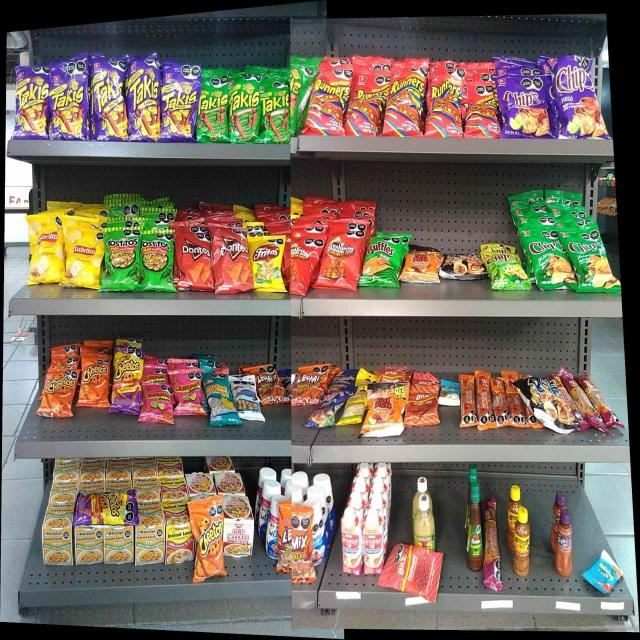bitzAlmendras: (582, 551, 622, 594), (440, 380, 460, 405)
bitzEnchilado90: (383, 551, 443, 594), (407, 386, 438, 424)
bitzEnchilado95: (492, 378, 523, 427), (478, 370, 492, 425), (462, 374, 476, 428)
bitzHabanero: (561, 381, 618, 435), (483, 497, 499, 589)
bokadosCacahuates: (310, 399, 342, 426)
botaneraChilito: (514, 506, 531, 577)
cheetosFlaminHot: (76, 490, 136, 523), (114, 346, 140, 414)
cheetosOriginal: (34, 366, 81, 416), (194, 502, 223, 574), (81, 351, 111, 406)
chipsFuego: (550, 60, 610, 139), (494, 76, 550, 138)
chipsJalapeno: (568, 224, 621, 293), (526, 227, 567, 289)
chipsPapatinas: (485, 244, 525, 289)
churrumais: (174, 367, 202, 416), (142, 384, 174, 424)
delPrimoSalsa: (414, 492, 436, 546)
doritosNacho: (174, 227, 213, 290), (215, 228, 249, 292)
fritosLimon: (252, 237, 284, 290)
hotNutsOriginal: (368, 384, 404, 433), (405, 252, 439, 281)
leoCacahuates: (233, 376, 257, 419)
leoMix: (278, 506, 312, 577), (294, 364, 328, 398), (257, 366, 281, 401)
maruchanPollo: (42, 499, 73, 565), (136, 502, 161, 563), (105, 526, 134, 563), (75, 525, 103, 562)
maruchanRes: (163, 504, 192, 560)
nestleCarnation: (341, 506, 361, 572), (363, 508, 381, 572)
nestleLechera: (264, 495, 278, 559), (313, 501, 325, 562)
nissinRes: (224, 497, 254, 556)
popKarameladas: (527, 378, 560, 422), (443, 252, 484, 278)
rancheritos: (321, 229, 365, 290), (286, 237, 320, 295)
rufflesQueso: (366, 237, 399, 288)
runners: (310, 71, 350, 131), (427, 75, 464, 137), (390, 72, 424, 136), (352, 78, 389, 136), (464, 82, 494, 138)
sabritasOriginal: (27, 214, 64, 282), (65, 233, 104, 288)
salsaBufalo: (468, 483, 481, 568)
semillasCalabaza: (344, 393, 367, 421)
semillasGirasol: (203, 374, 232, 426)
tajinDulce: (556, 510, 573, 576)
takisFuego: (50, 53, 89, 140), (90, 55, 128, 142), (162, 61, 197, 142), (128, 54, 160, 142), (15, 64, 49, 140)
takisOriginal: (229, 75, 260, 141), (198, 74, 228, 142), (260, 80, 290, 142), (291, 69, 301, 135)
tostitos: (140, 228, 174, 292), (106, 228, 139, 291)
